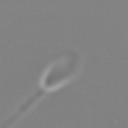normal: (1, 87, 44, 128)
